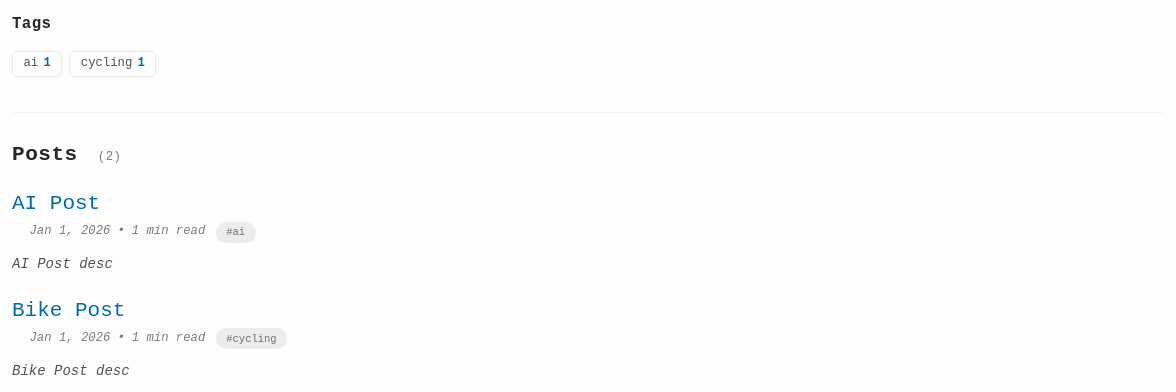
Test: TagFilter › shows a clear-all control once a tag is active and resets on click
Click the button "cycling 1".
click(113, 64)  # box [69,50,156,77]
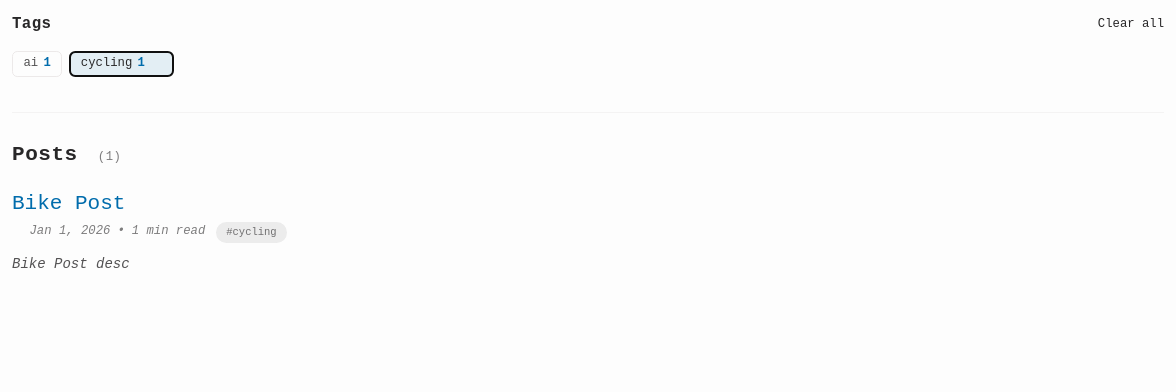
Click the button "Clear all".
click(1122, 24)  # box [1080,16,1164,33]
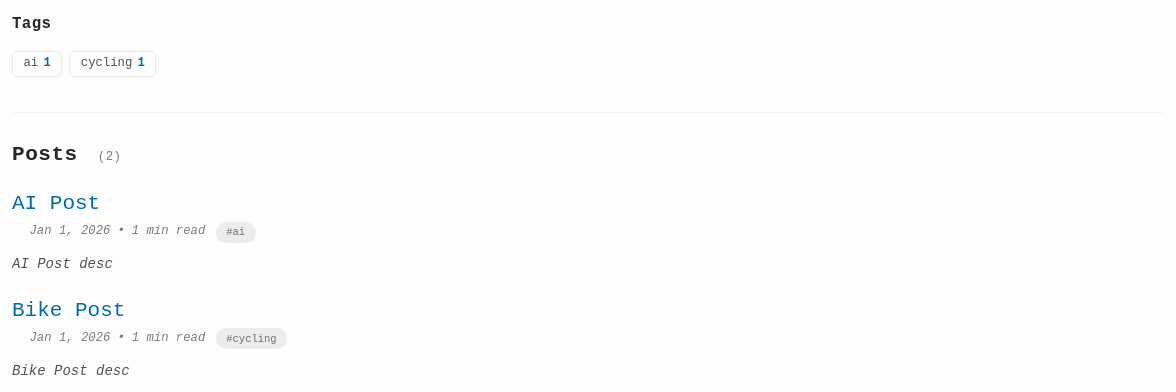
Expected: the link "Bike Post" is shown, [12,297,125,325]
Now the link "AI Post" is shown, box [12,190,100,218]
